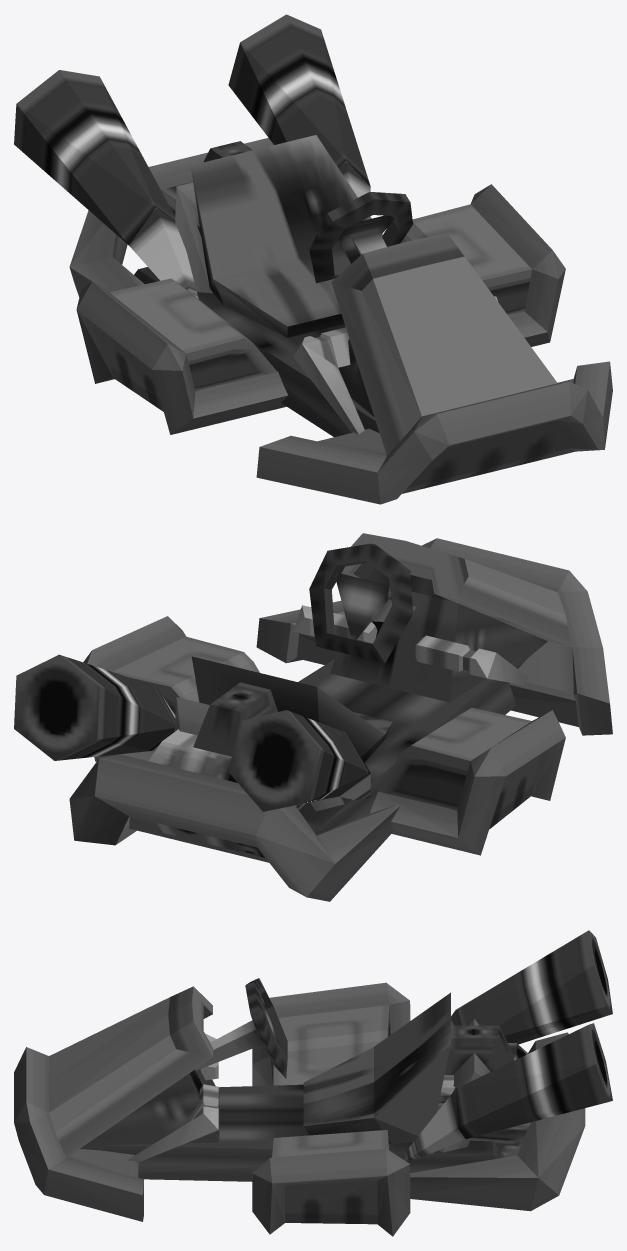
File: body_std_mtl.obj
The picture shows the model from 3 angles, top to bottom: view 1: azimuth 30°, elevation 25°; view 2: azimuth 150°, elevation 25°; view 3: azimuth 270°, elevation 25°; orthographic projection. The views are drawn at different scales.
Parts seen in each view (by area): view 1: _1_0_node__1_0, _0_0_node__0_0; view 2: _1_0_node__1_0, _0_0_node__0_0; view 3: _1_0_node__1_0, _0_0_node__0_0.
Boxes of the visible parts, <box> form: _1_0_node__1_0: <box>14,14,612,504</box>; _0_0_node__0_0: <box>309,192,412,283</box>; _1_0_node__1_0: <box>14,533,612,901</box>; _0_0_node__0_0: <box>309,543,416,662</box>; _1_0_node__1_0: <box>14,930,612,1236</box>; _0_0_node__0_0: <box>195,978,287,1078</box>.
Bounding box in the file's own units: 14.34 × 6.85 × 20.33.
Materials: 3 (3 with a texture image).
